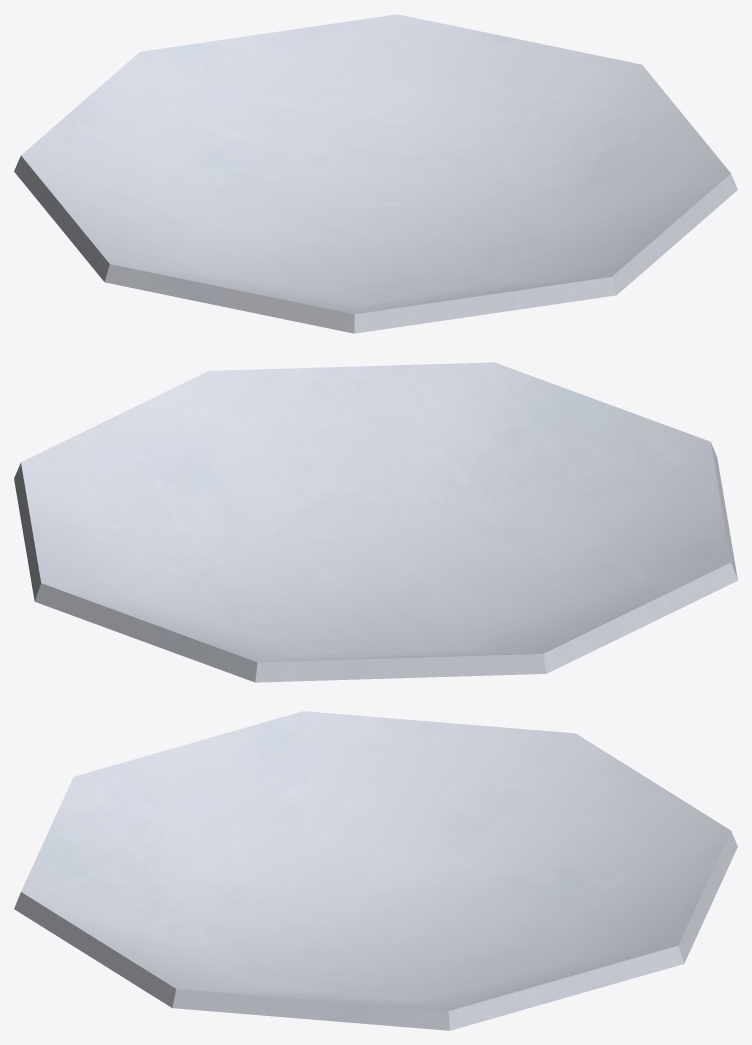
The picture shows the model from 3 angles, top to bottom: view 1: azimuth 30°, elevation 25°; view 2: azimuth 150°, elevation 25°; view 3: azimuth 270°, elevation 25°; orthographic projection. The views are drawn at different scales.
Visible parts, largest first — view 1: Dish004_Plastic_06001_0; view 2: Dish004_Plastic_06001_0; view 3: Dish004_Plastic_06001_0.
Part boxes in pixels (<box>): Dish004_Plastic_06001_0: <box>14,14,737,333</box>; Dish004_Plastic_06001_0: <box>14,362,737,682</box>; Dish004_Plastic_06001_0: <box>14,711,737,1030</box>.
Size of the model in its own units: 0.4137 by 0.0482 by 0.4137.
Materials: 1 (1 with a texture image).
